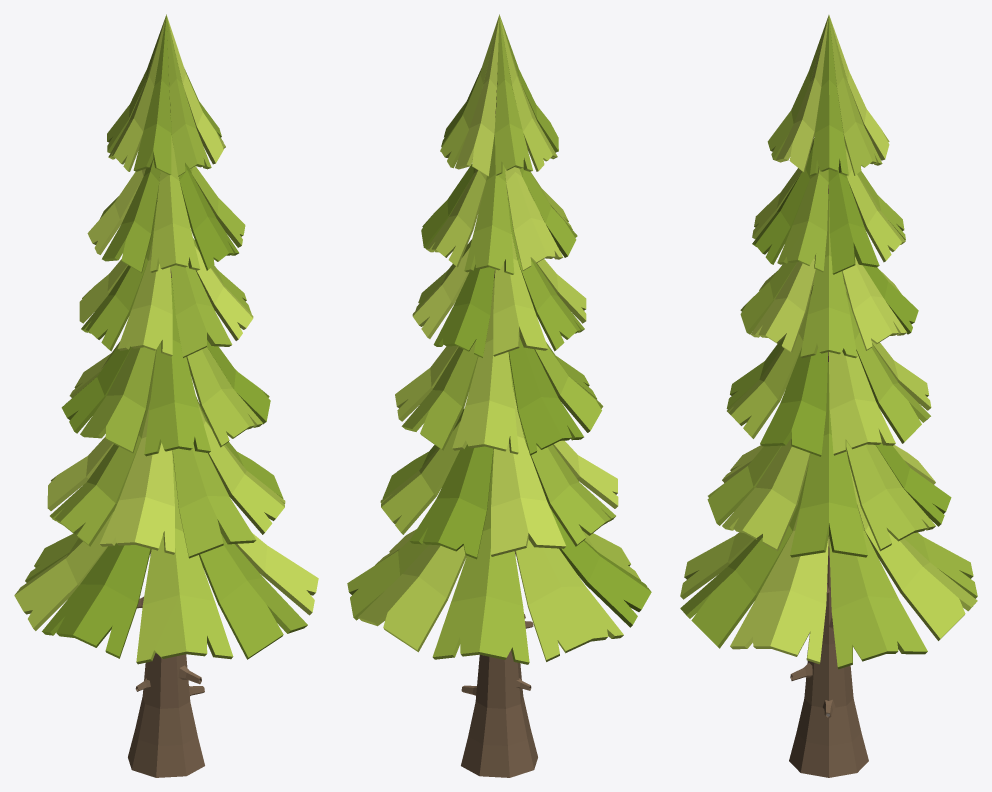
The model's file is NHP_Tree_LP_A1_7.5m_01.fbx.
3 views of the same model, side by side, from view 1: azimuth 30°, elevation 25°; view 2: azimuth 150°, elevation 25°; view 3: azimuth 270°, elevation 25° (orthographic).
Parts seen in each view (by area): view 1: NHP_Tree_LP_A1_7.5m_01_LOD0; view 2: NHP_Tree_LP_A1_7.5m_01_LOD0; view 3: NHP_Tree_LP_A1_7.5m_01_LOD0.
Part boxes in pixels (<box>): NHP_Tree_LP_A1_7.5m_01_LOD0: <box>14,14,318,777</box>; NHP_Tree_LP_A1_7.5m_01_LOD0: <box>347,14,651,777</box>; NHP_Tree_LP_A1_7.5m_01_LOD0: <box>680,15,977,777</box>.
Size of what is drawn, in the model's own units: 2.82 by 7.8 by 2.82.
